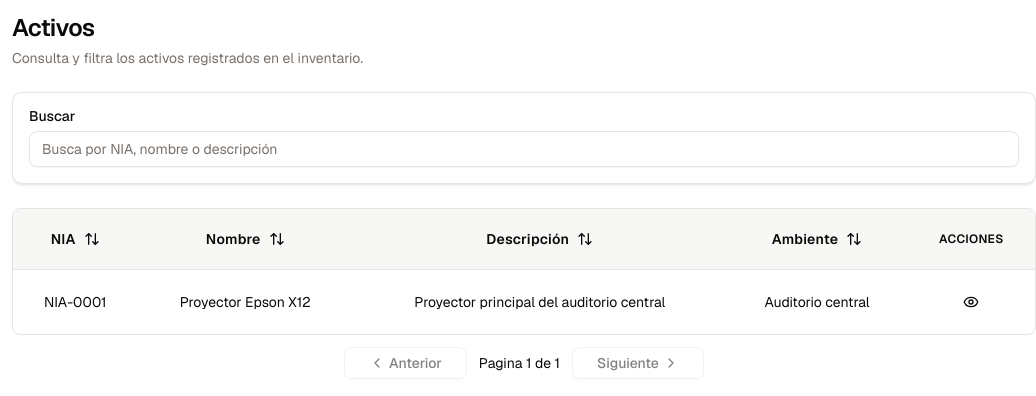
Test: AssetListPage › aplica la búsqueda reactiva cuando la persona deja de escribir
Expected: the text "Proyector Epson X12" is shown, 180,293 -> 311,311
# Ingresamos un término de búsqueda en el input correspondiente.
Type "epson" into the field labelled "Buscar" at [524, 149], box 29,131 -> 1019,167
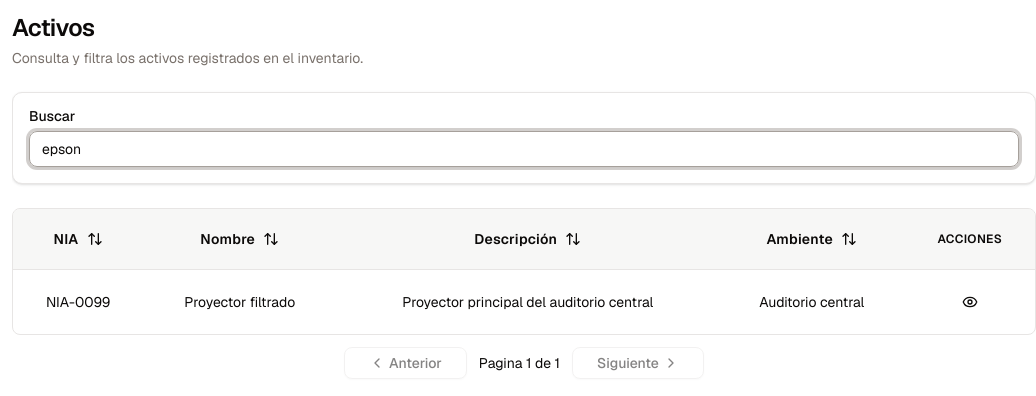
Expected: the text "Proyector filtrado" is shown, 184,293 -> 295,311
